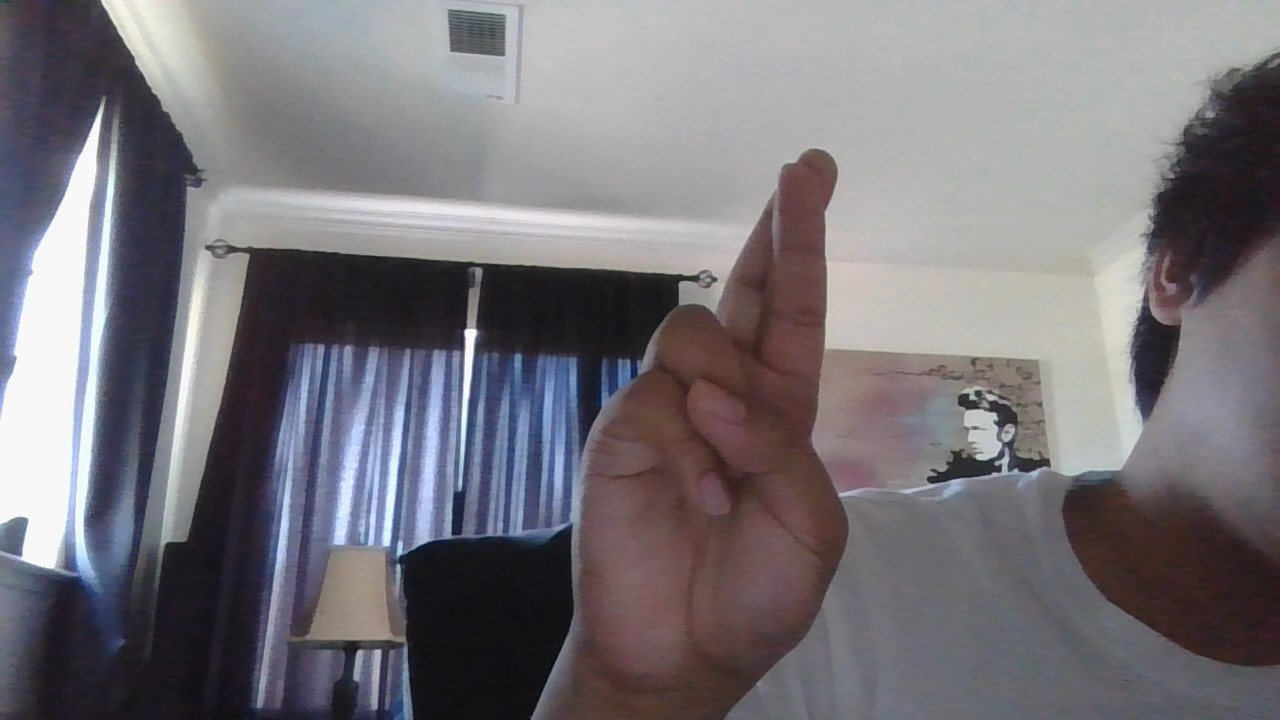r: (544, 125, 880, 688)
